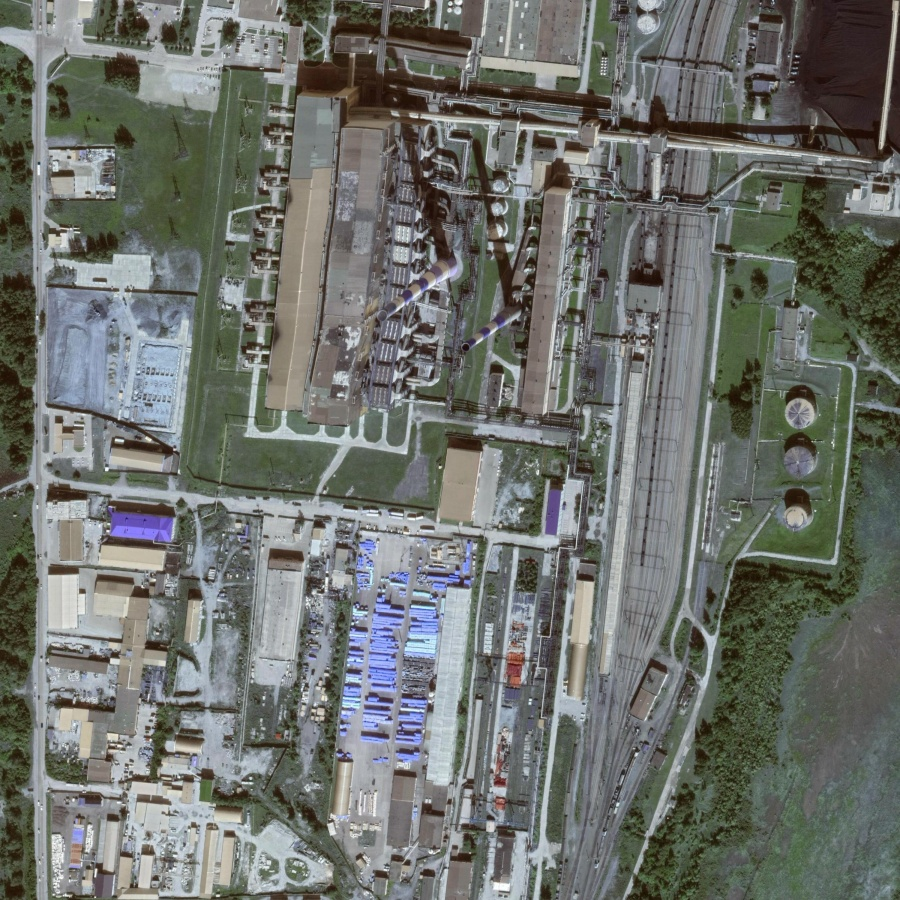PowerPlant: (346, 54, 600, 382), (706, 371, 854, 546)
